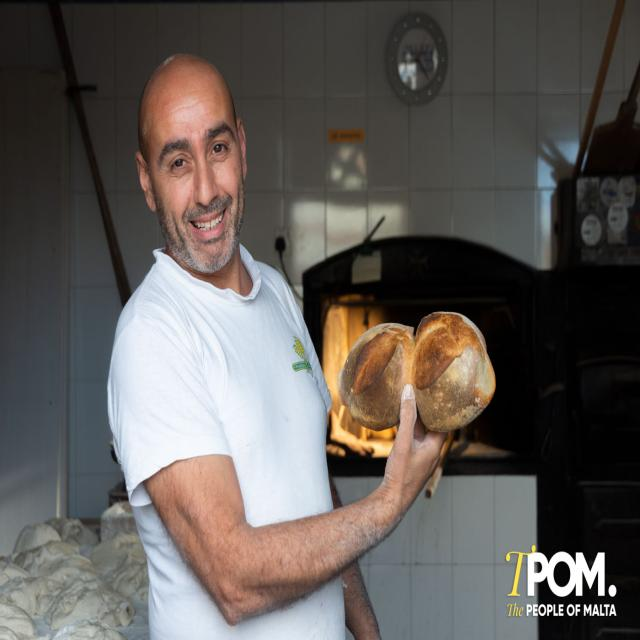Maltese-Bread: (412, 313, 494, 430), (338, 324, 414, 430)
